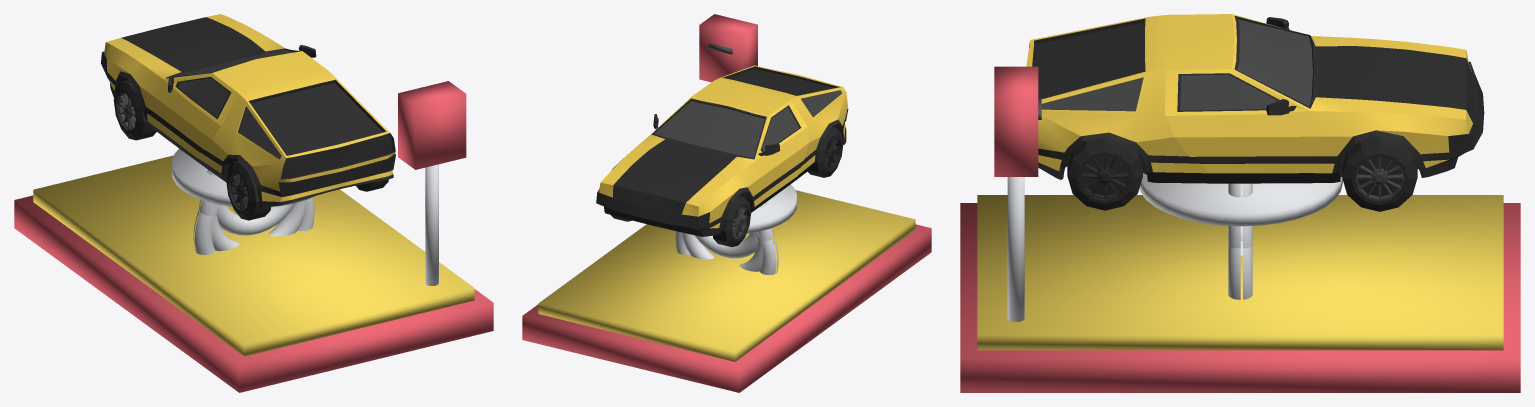
The model's file is yaoyao.glb.
3 renders of one model, left to right at view 1: azimuth 30°, elevation 25°; view 2: azimuth 150°, elevation 25°; view 3: azimuth 270°, elevation 25°, orthographic. The views are drawn at different scales.
Visible parts, largest first — view 1: geometry_1, geometry_0, Car_Dook, Car_Dook_1, geometry_7, Car_Dook_2, geometry_5, BackWheels, geometry_6, geometry_3, geometry_4, geometry_2 (+2 smaller); view 2: geometry_1, geometry_0, Car_Dook, Car_Dook_1, Car_Dook_2, geometry_7, geometry_5, BackWheels, geometry_3, FrontWheels, geometry_4, geometry_2; view 3: geometry_1, Car_Dook_1, geometry_0, Car_Dook, Car_Dook_2, geometry_5, geometry_7, BackWheels, FrontWheels, geometry_6, geometry_2, FrontWheels_1 (+1 smaller).
Boxes of the visible parts, x1,y1,x2,y2 form: geometry_1: (33,155,474,356); geometry_0: (14,195,493,392); Car_Dook: (101,17,395,207); Car_Dook_1: (104,14,395,201); geometry_7: (398,81,466,169); Car_Dook_2: (175,50,294,159); geometry_5: (172,148,314,206); BackWheels: (226,160,388,220); geometry_6: (425,164,438,285); geometry_3: (198,199,305,250); geometry_4: (207,170,295,235); geometry_2: (193,197,314,254); geometry_1: (538,190,915,361); geometry_0: (522,224,931,392); Car_Dook: (596,66,848,236); Car_Dook_1: (599,65,847,228); Car_Dook_2: (654,90,841,157); geometry_7: (699,14,757,82); geometry_5: (746,184,796,233); BackWheels: (807,126,843,177); geometry_3: (683,228,774,271); FrontWheels: (611,196,751,247); geometry_4: (694,202,766,258); geometry_2: (675,229,778,274); geometry_1: (977,195,1503,350); Car_Dook_1: (1026,14,1472,173); geometry_0: (960,203,1520,392); Car_Dook: (1029,16,1484,183); Car_Dook_2: (1041,19,1312,111); geometry_5: (1139,156,1342,226); geometry_7: (994,66,1038,176); BackWheels: (1067,137,1142,210); FrontWheels: (1342,136,1417,211); geometry_6: (1007,177,1024,321); geometry_2: (1228,246,1252,299); FrontWheels_1: (1355,157,1404,200).
Bounding box in the file's own units: 2.35 × 2.1 × 3.6.
